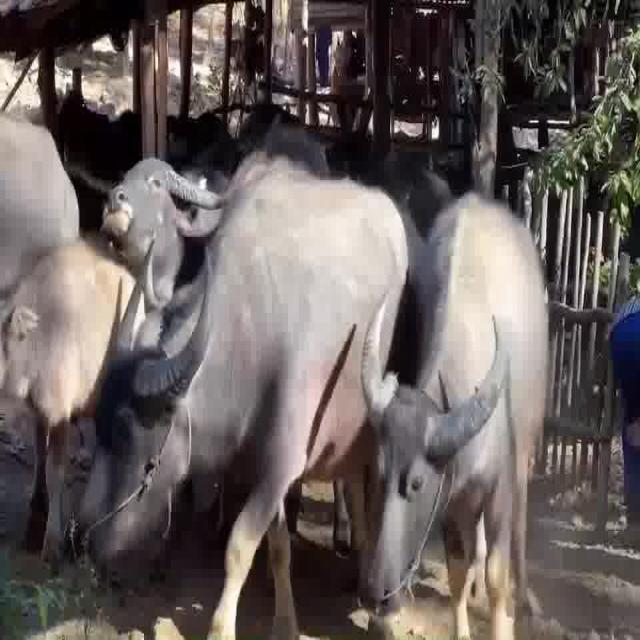buffalo: (86, 150, 412, 640), (371, 185, 551, 639)
